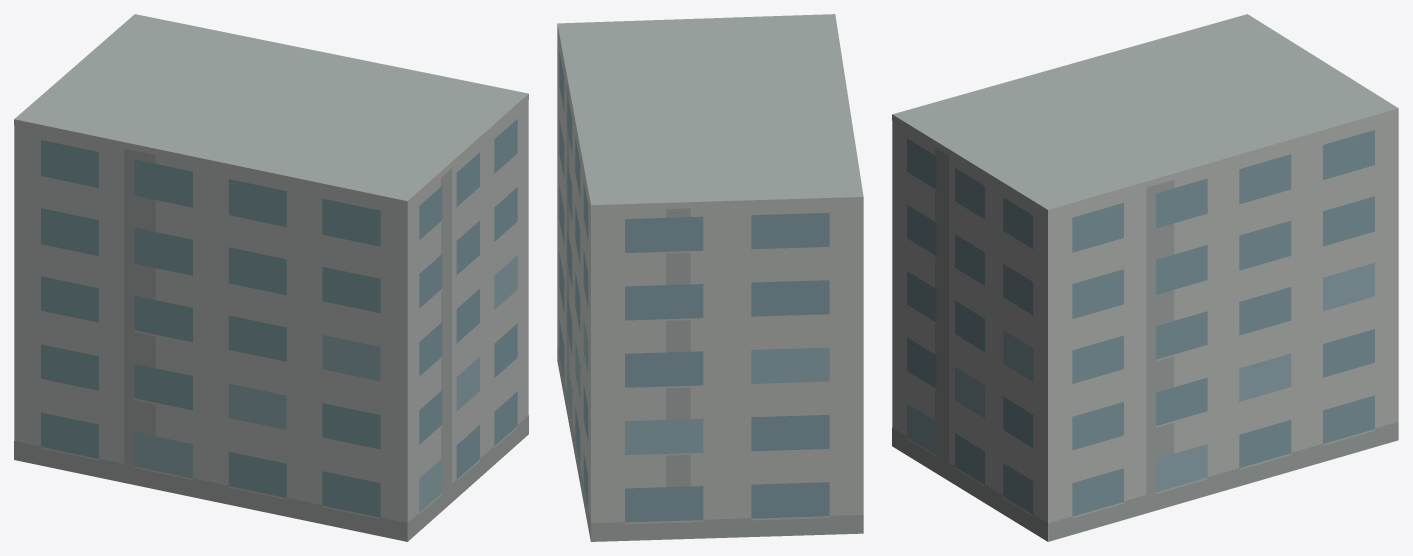
Rendered from survey-upis-32842157.glb.
3 views of the same model, side by side, from view 1: azimuth 30°, elevation 25°; view 2: azimuth 150°, elevation 25°; view 3: azimuth 270°, elevation 25° (orthographic). The views are drawn at different scales.
Visible parts, largest first — view 1: survey-upis-32842157.tmp; view 2: survey-upis-32842157.tmp; view 3: survey-upis-32842157.tmp.
Boxes of the visible parts, x1=… form: survey-upis-32842157.tmp: x1=14, y1=14, x2=528, y2=541; survey-upis-32842157.tmp: x1=557, y1=14, x2=863, y2=541; survey-upis-32842157.tmp: x1=892, y1=14, x2=1398, y2=541.
Size of the model in its own units: 16.47 by 13 by 17.99.
